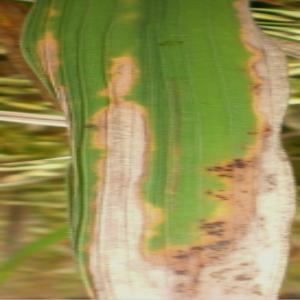2 BacterialBlight: (53, 2, 273, 299)
